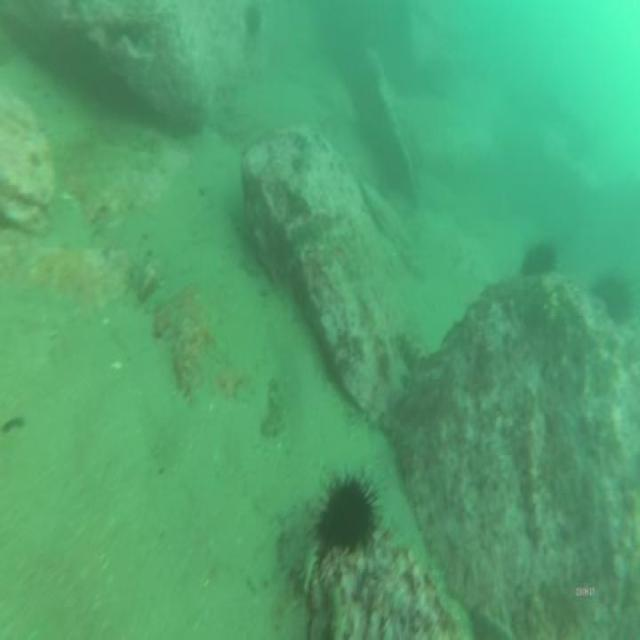echinus: (313, 471, 378, 559), (589, 268, 640, 328), (520, 234, 559, 278)
holothurian: (286, 213, 346, 266)
